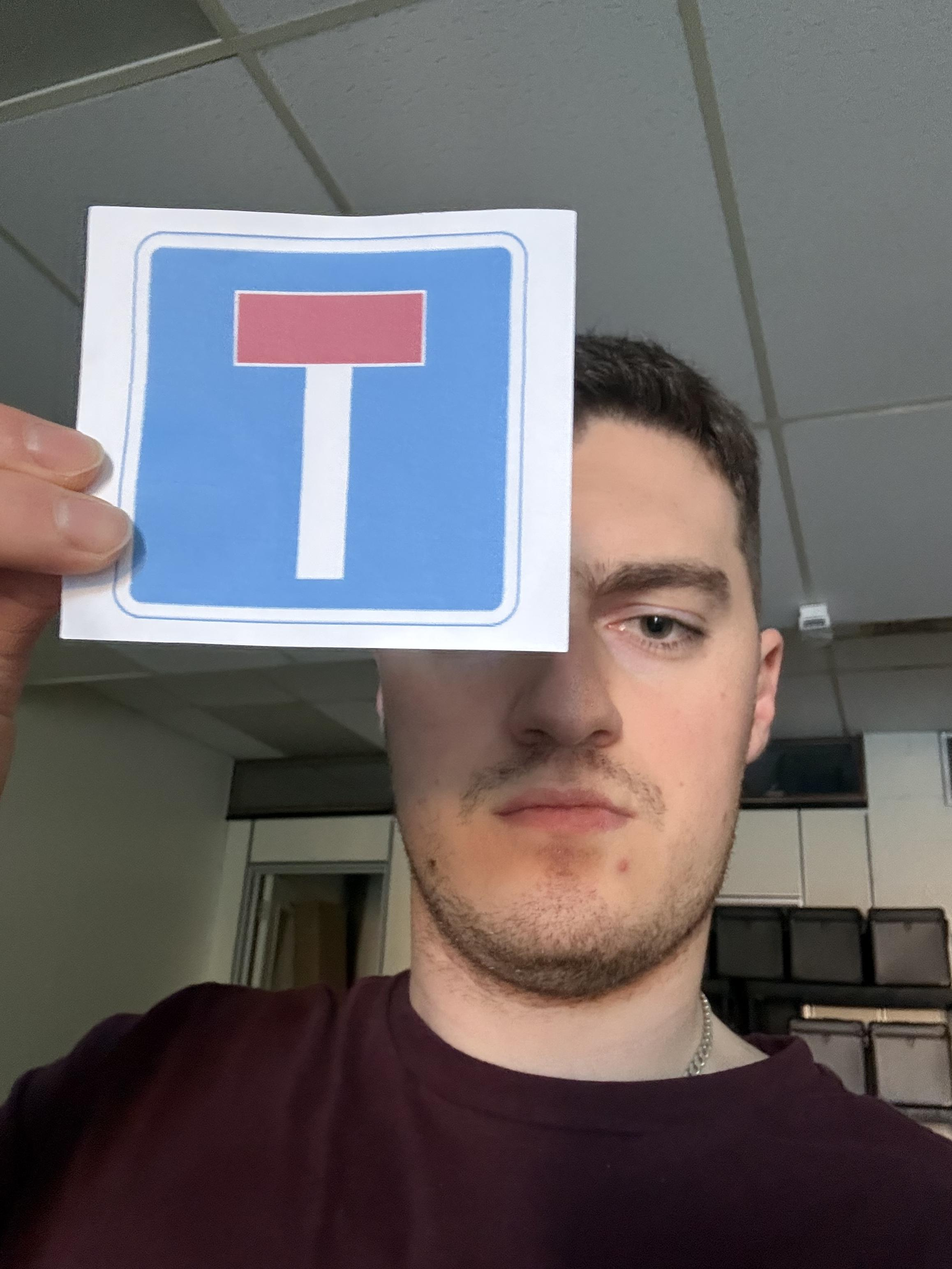Dead End: (48, 283, 433, 870)
